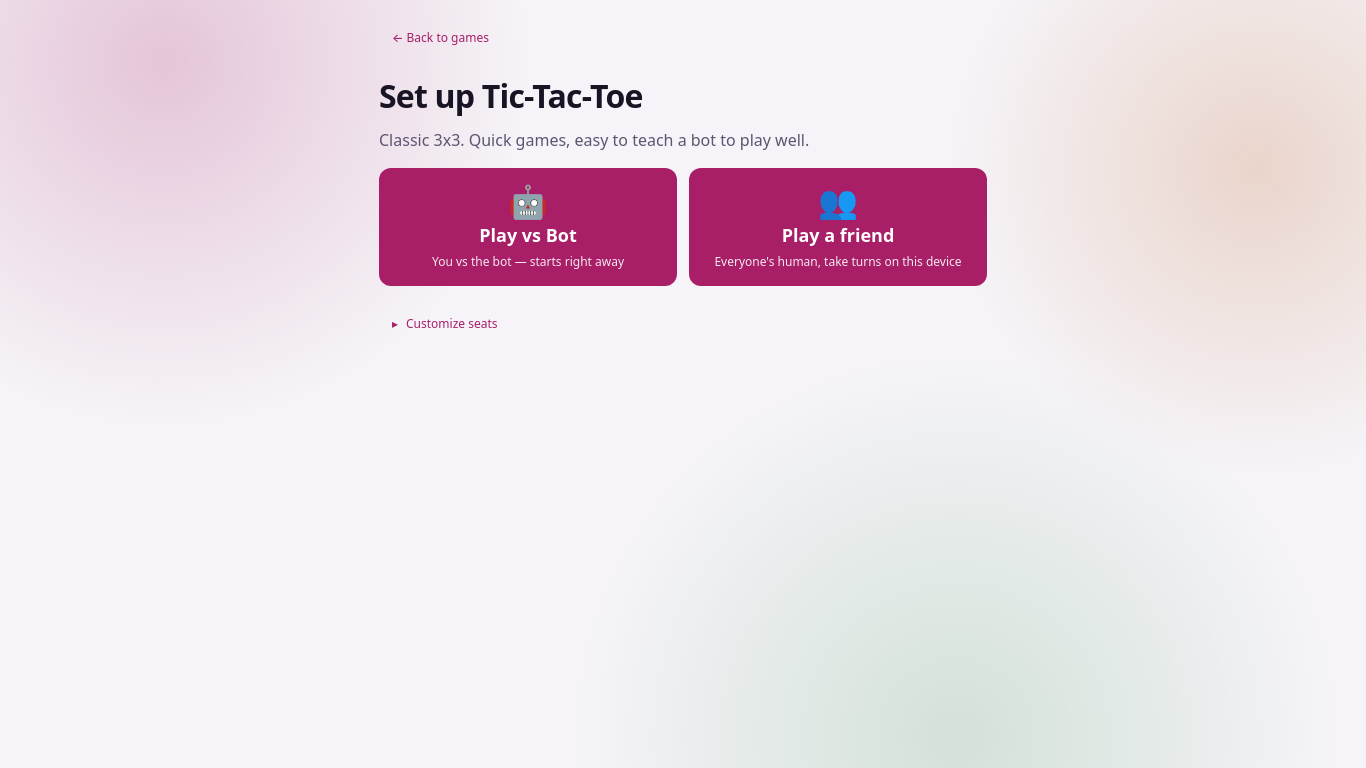
Test case: SetupScreen › Customize is collapsed by default and expands on toggle
This screenshot has width=1366, height=768.
Click the button "▸ Customize seats": click(445, 324) [379, 302, 510, 346]
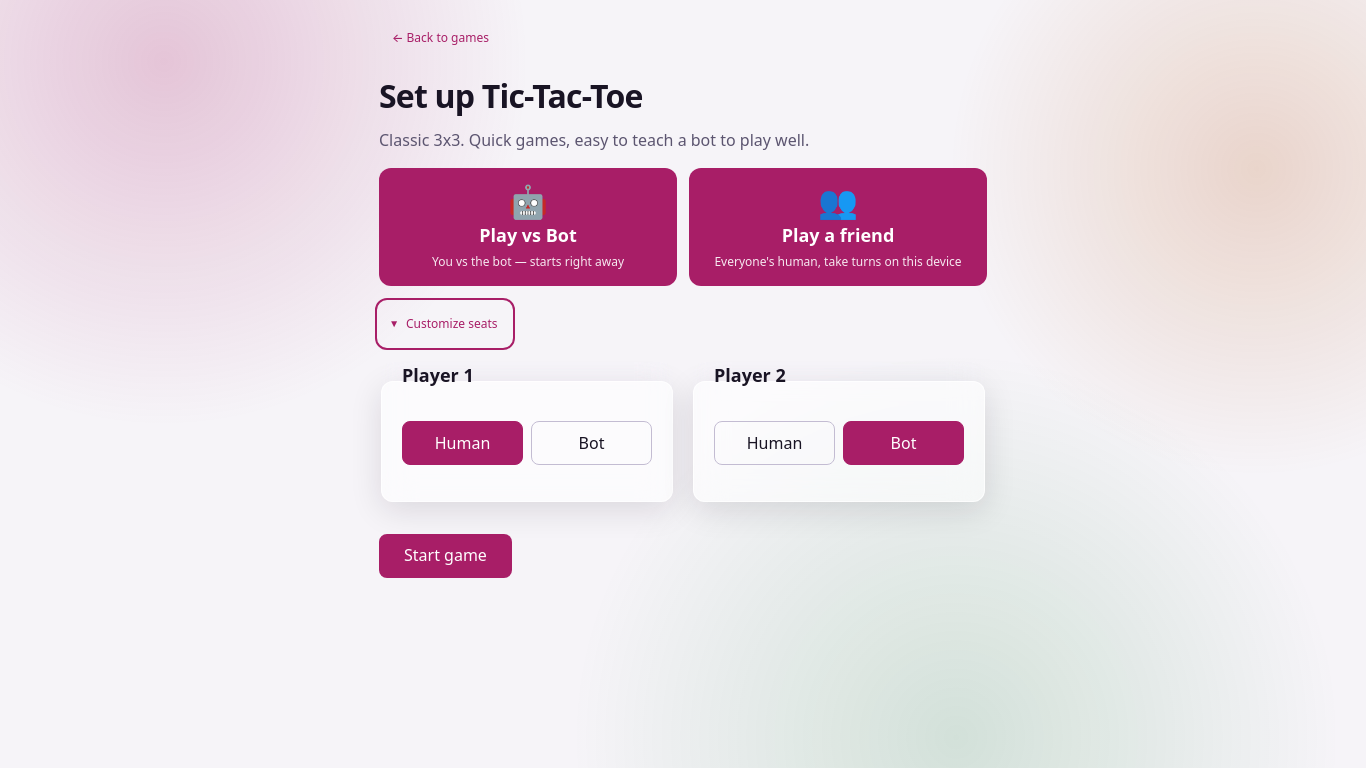
Result: the button "▸ Customize seats" is expanded at [379, 302, 510, 346]
Result: the 1st radio button labelled "Human" is checked at [402, 421, 523, 465]
